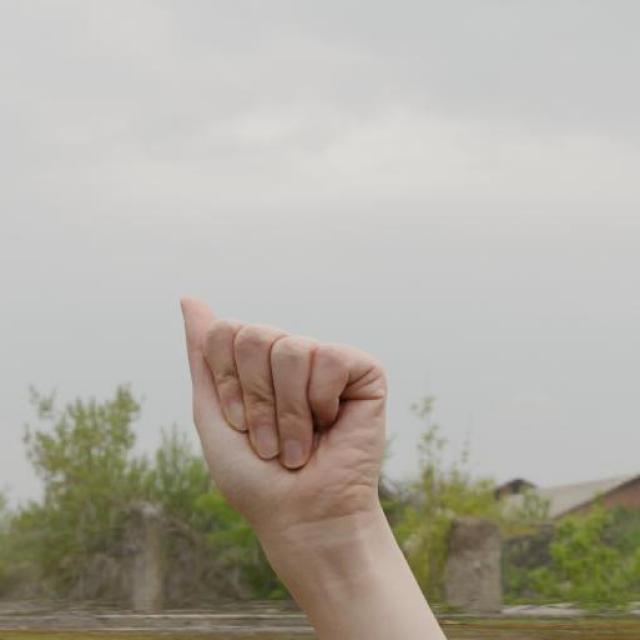A: (177, 295, 398, 515)
